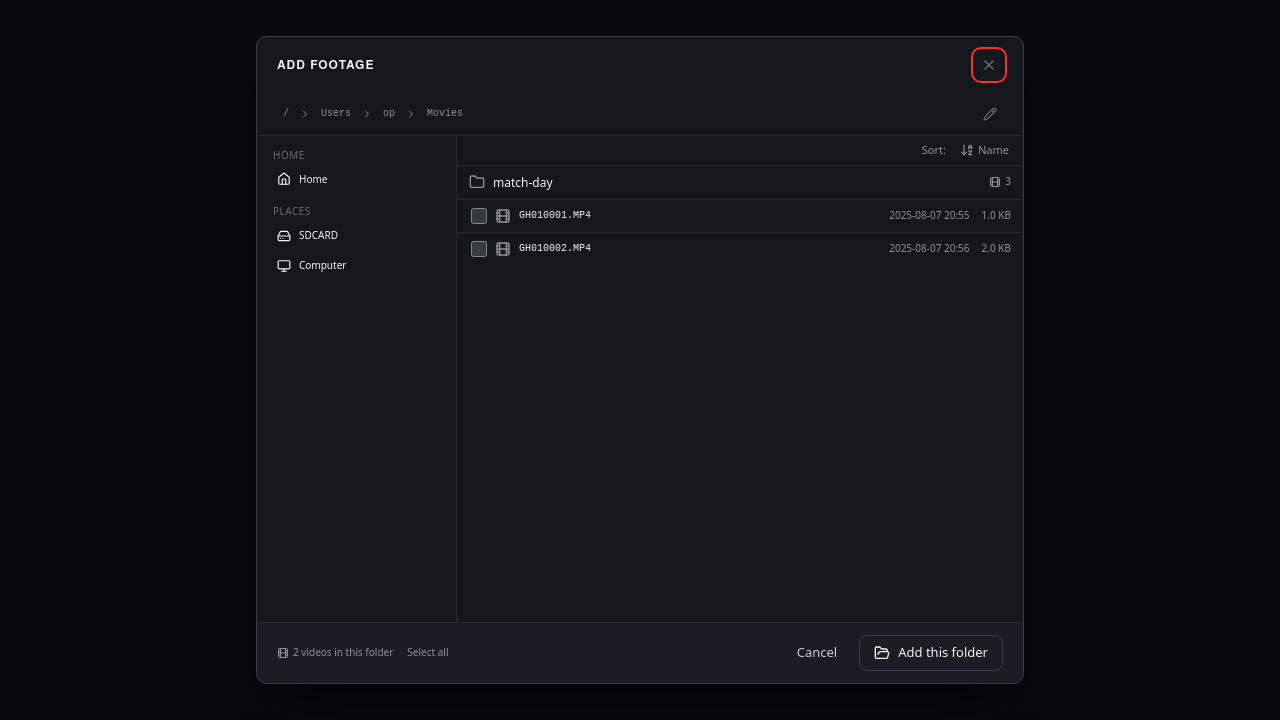
Test: FolderPicker › resets the file selection when navigating into a folder
The width and height of the screenshot is (1280, 720).
Click the checkbox named "select GH010001": point(479, 216) [471, 208, 487, 224]
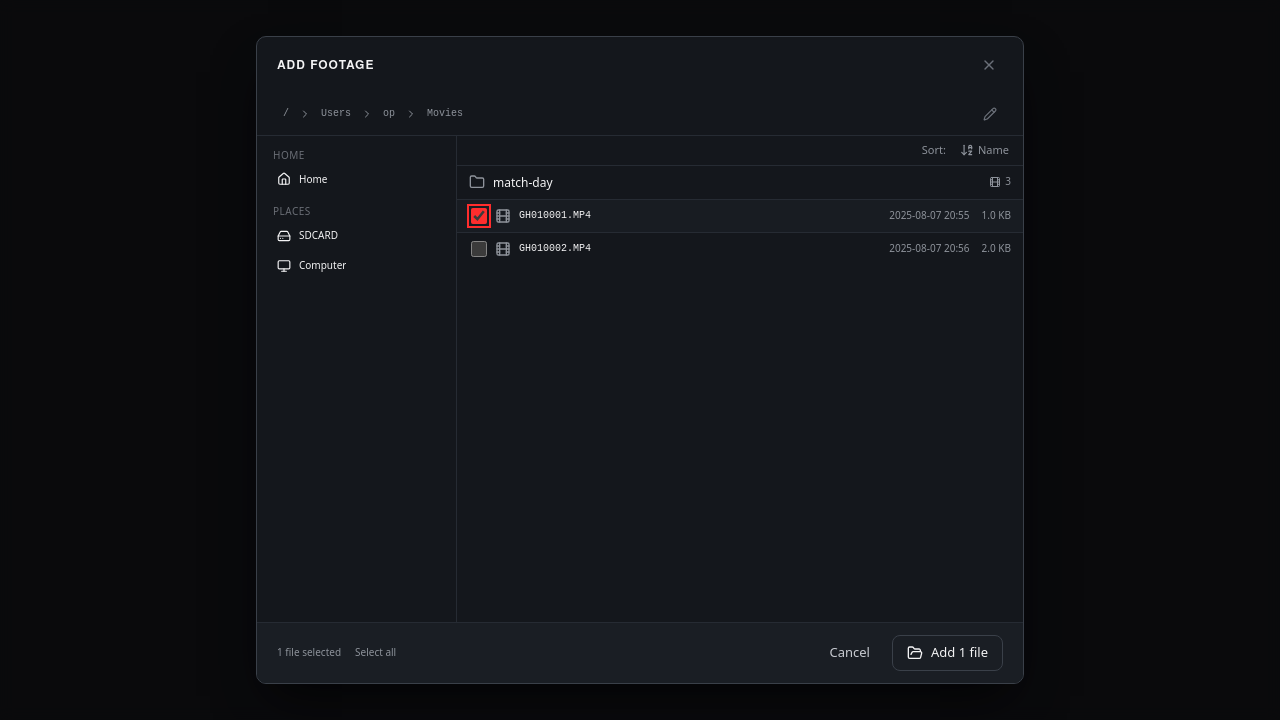
Expected: the button "Add 1 file" is shown, [892, 635, 1003, 671]
Click the button "match-day 3": point(523, 182) [457, 166, 1023, 199]
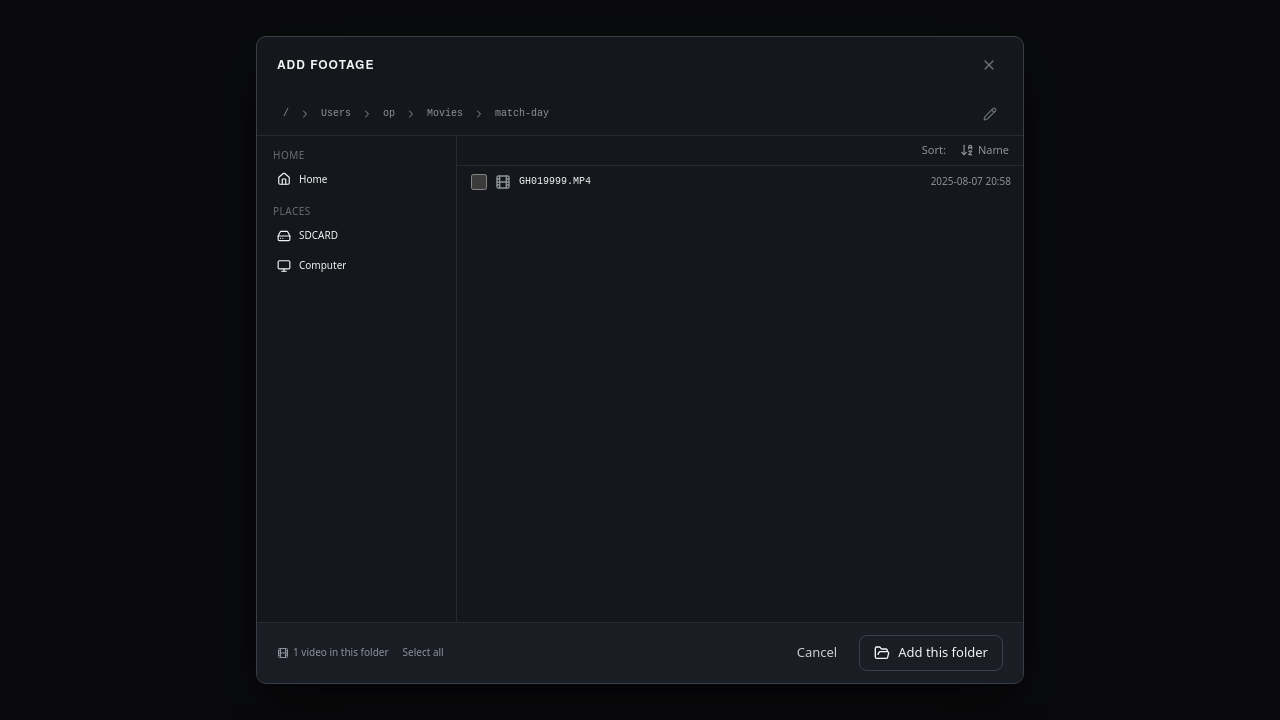
Expected: the button "Add this folder" is shown, [859, 635, 1003, 671]
